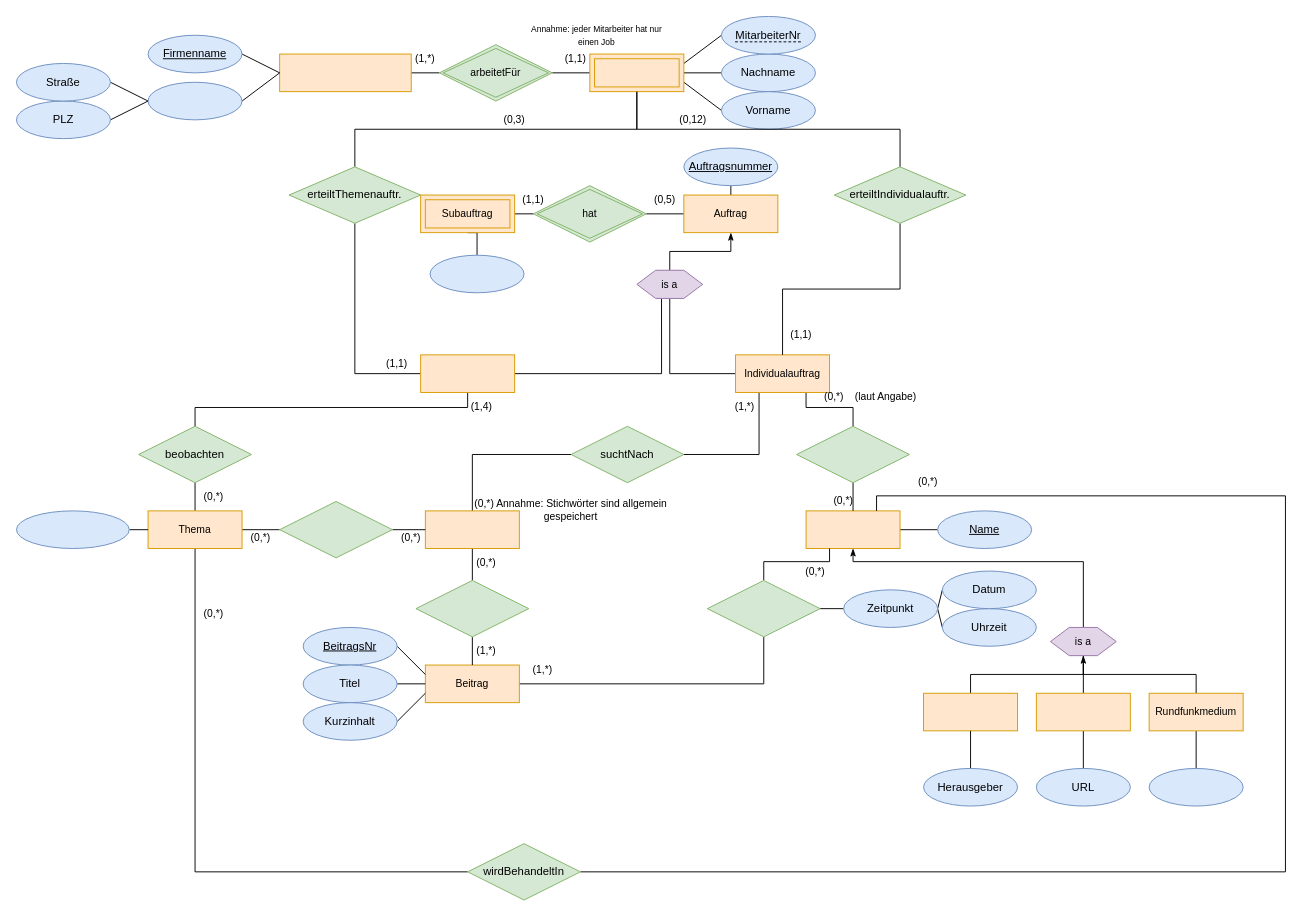
This 1303x917 diagram has some shape labels left out. Here are the shapes that lost their labels. From the top down, the centre of each, then its label:
At (345,72): "KundenUnternehmen".
At (636,72): "Mitarbeiter".
At (194,100): "Adresse".
At (476,273): "SubauftragsNr".
At (467,373): "Themenauftrag".
At (852,454): "ordnetZu".
At (72,529): "Themenbezeichner".
At (335,529): "gehörtZu".
At (471,529): "Stichwort".
At (852,529): "Medium".
At (472,608): "enthält".
At (763,608): "istErschienen".
At (970,711): "Printmedium".
At (1082,711): "Onlinemedium".
At (1195,787): "Sendekanal".
